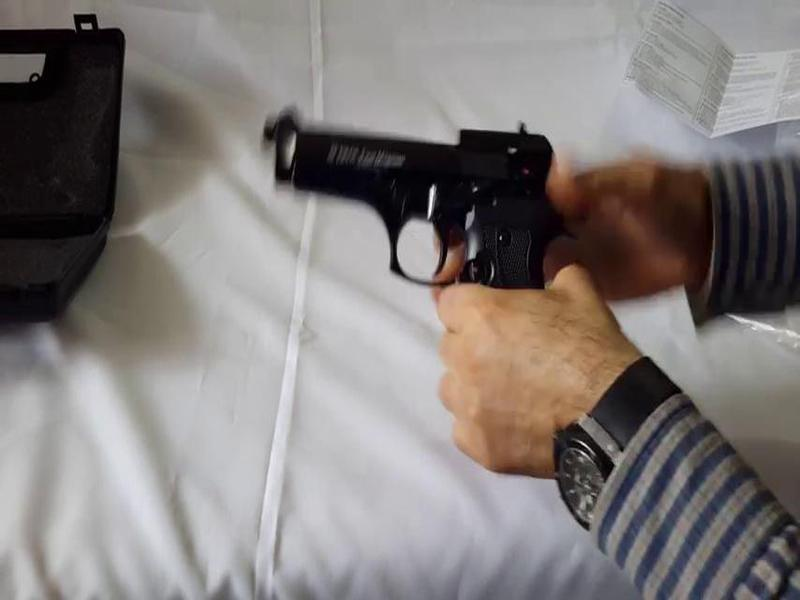Pistola: (257, 118, 578, 304)
